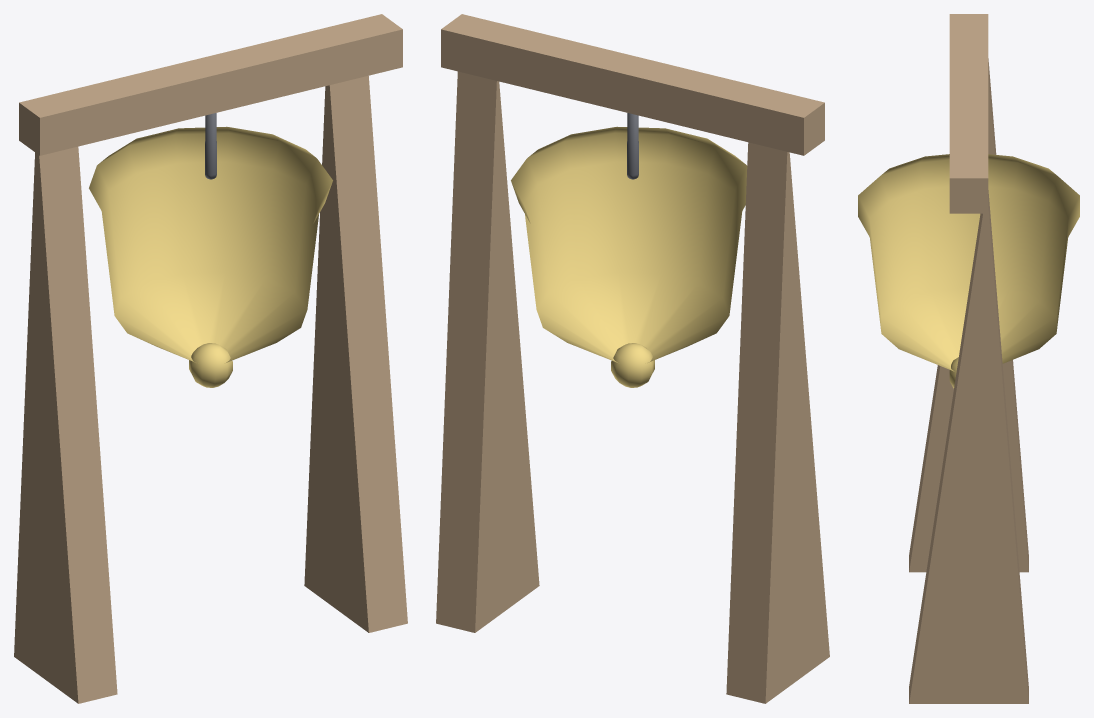
The model's file is martial-arts-dojo-and-fight-stages-dojo-bell-226f1823__18066.glb.
3 renders of one model, left to right at view 1: azimuth 30°, elevation 25°; view 2: azimuth 150°, elevation 25°; view 3: azimuth 270°, elevation 25°, orthographic. The views are drawn at different scales.
Visible parts, largest first — view 1: dojo-bell; view 2: dojo-bell; view 3: dojo-bell.
Boxes of the visible parts, x1,y1,x2,y2 form: dojo-bell: [14, 14, 407, 703]; dojo-bell: [436, 14, 829, 703]; dojo-bell: [858, 14, 1079, 703].
Size of the model in its own units: 1.3 by 1.97 by 0.741.
